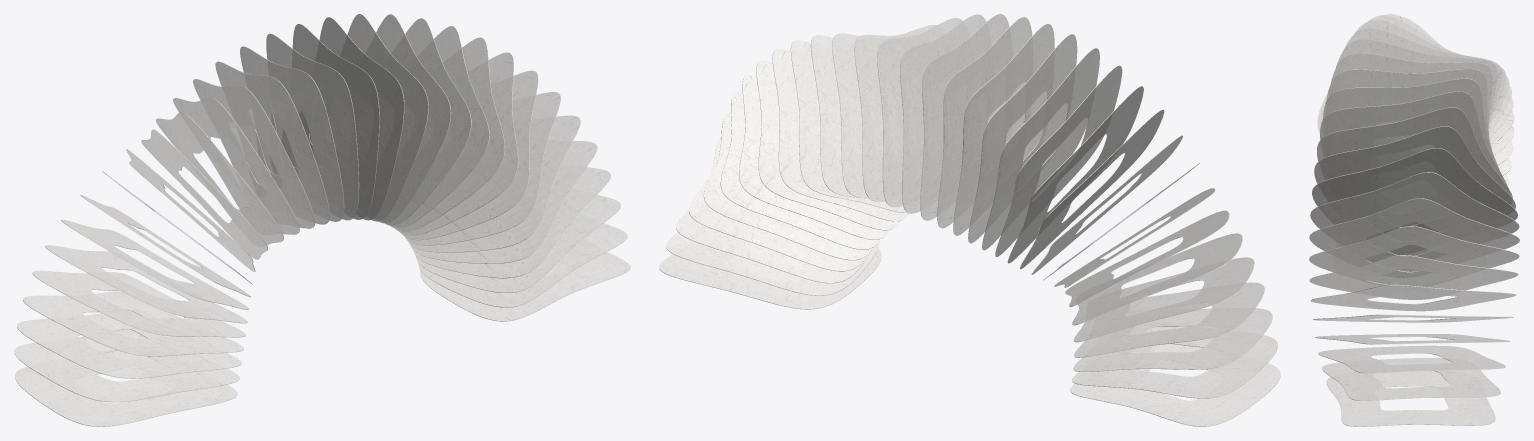
The model's file is screen009.glb.
3 renders of one model, left to right at view 1: azimuth 30°, elevation 25°; view 2: azimuth 150°, elevation 25°; view 3: azimuth 270°, elevation 25°, orthographic. The views are drawn at different scales.
Parts seen in each view (by area): view 1: [0]; view 2: [0]; view 3: [0].
Boxes of the visible parts, left/top/right/bottom form: [0]: left=14, top=14, right=630, bottom=426; [0]: left=659, top=14, right=1280, bottom=426; [0]: left=1309, top=14, right=1519, bottom=426.
Size of the model in its own units: 12.5 by 6.24 by 4.42.
Materials: 1 (1 with a texture image).
